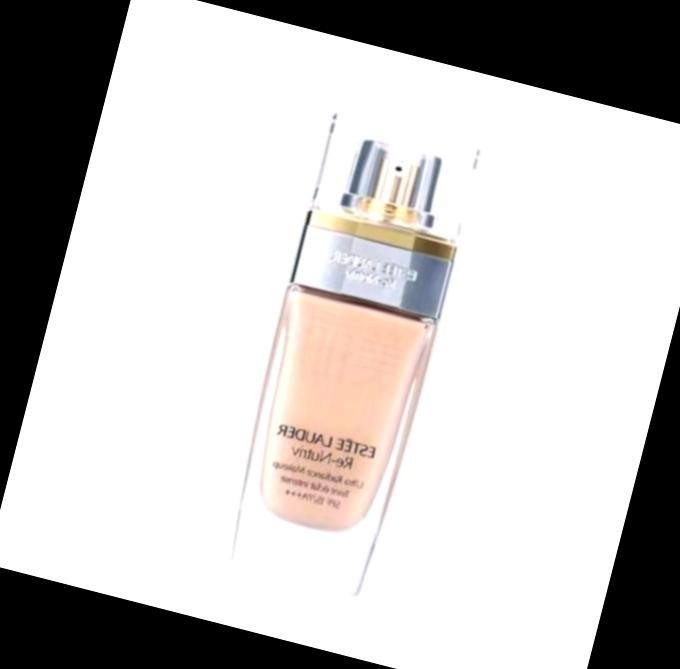cosmetic: (220, 112, 481, 602)
